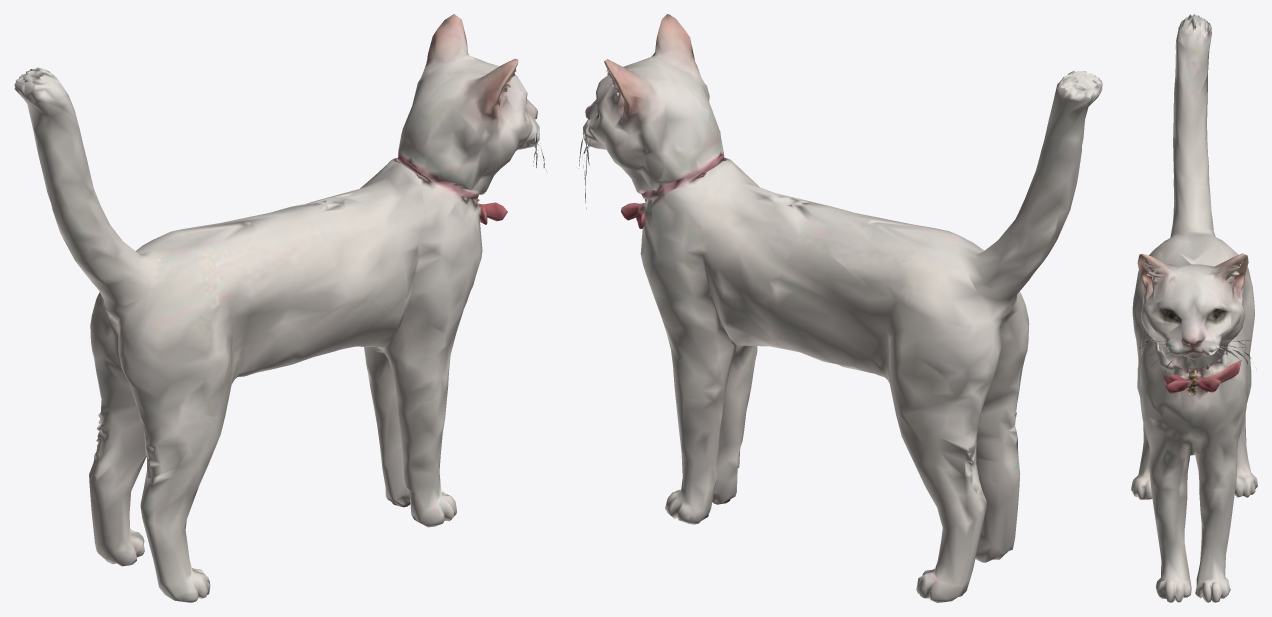
The model's file is ANAGOCAT-lo.glb.
3 views of the same model, side by side, from view 1: azimuth 30°, elevation 25°; view 2: azimuth 150°, elevation 25°; view 3: azimuth 270°, elevation 25° (orthographic). The views are drawn at different scales.
Parts seen in each view (by area): view 1: tripo_node_eb741693-3db5-4906-95d4-ef9d421c5221; view 2: tripo_node_eb741693-3db5-4906-95d4-ef9d421c5221; view 3: tripo_node_eb741693-3db5-4906-95d4-ef9d421c5221.
Part boxes in pixels (box(x1,y1,x2,y2)): tripo_node_eb741693-3db5-4906-95d4-ef9d421c5221: box(14, 14, 546, 602); tripo_node_eb741693-3db5-4906-95d4-ef9d421c5221: box(578, 14, 1102, 602); tripo_node_eb741693-3db5-4906-95d4-ef9d421c5221: box(1131, 14, 1257, 602).
Size of the model in its own units: 1.01 by 0.999 by 0.2666.
1 material, 1 textured.
